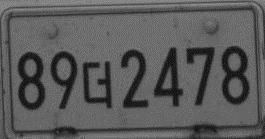2: (119, 49, 151, 110)
4: (151, 44, 185, 107)
7: (182, 45, 217, 108)
8: (15, 49, 47, 110), (219, 43, 250, 104)
9: (47, 49, 78, 109)
더: (79, 59, 114, 110)
